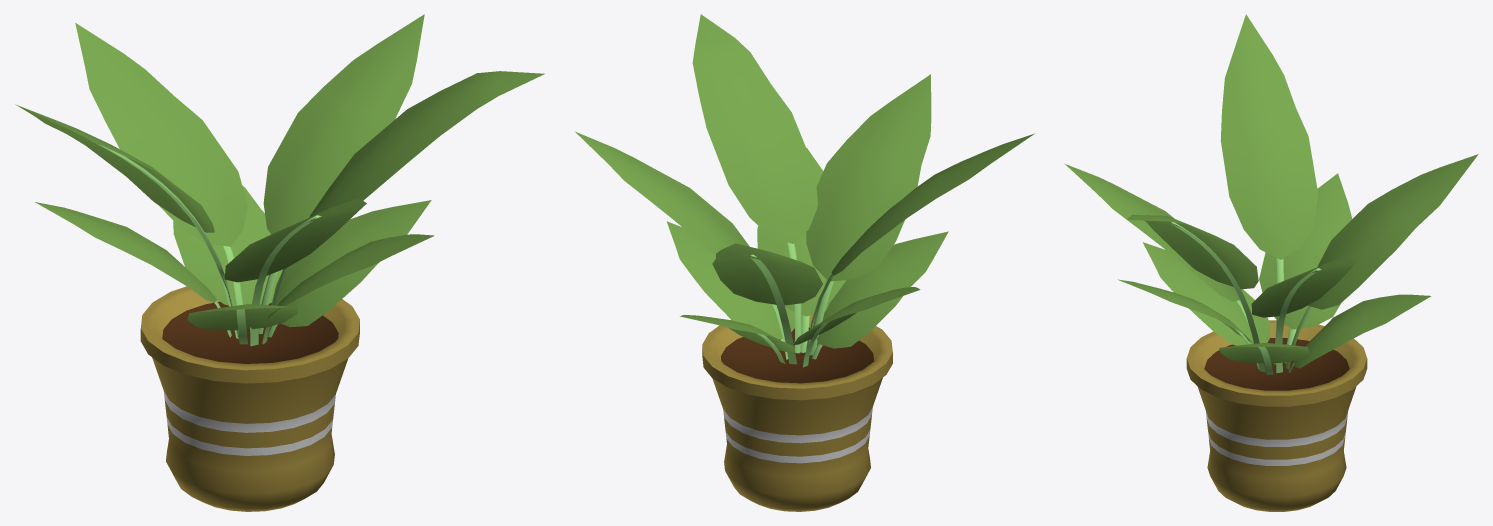
Rendered from Plant.fbx.
3 renders of one model, left to right at view 1: azimuth 30°, elevation 25°; view 2: azimuth 150°, elevation 25°; view 3: azimuth 270°, elevation 25°, orthographic. The views are drawn at different scales.
Parts seen in each view (by area): view 1: Cylinder.038, Cube.092, Cube.093, Cube.091, Cube.098, Cube.090, Cube.089, Cube.097, Cube.094, Cube.096, Cube.095; view 2: Cylinder.038, Cube.091, Cube.090, Cube.095, Cube.093, Cube.092, Cube.089, Cube.098, Cube.096, Cube.094, Cube.097; view 3: Cylinder.038, Cube.089, Cube.092, Cube.091, Cube.094, Cube.095, Cube.097, Cube.093, Cube.090, Cube.098, Cube.096.
Boxes of the visible parts, x1,y1,x2,y2 form: Cylinder.038: [140, 286, 359, 511]; Cube.092: [75, 23, 247, 305]; Cube.093: [258, 14, 424, 333]; Cube.091: [266, 71, 544, 342]; Cube.098: [268, 200, 431, 337]; Cube.090: [224, 198, 366, 346]; Cube.089: [15, 104, 238, 338]; Cube.097: [173, 185, 282, 305]; Cube.094: [35, 202, 231, 337]; Cube.096: [262, 234, 434, 344]; Cube.095: [187, 304, 298, 344]; Cylinder.038: [702, 314, 892, 511]; Cube.091: [692, 14, 817, 353]; Cube.090: [806, 74, 931, 355]; Cube.095: [812, 231, 948, 359]; Cube.093: [575, 131, 788, 359]; Cube.092: [712, 243, 822, 364]; Cube.089: [805, 133, 1034, 352]; Cube.098: [666, 221, 794, 352]; Cube.096: [757, 147, 846, 352]; Cube.094: [793, 287, 920, 367]; Cube.097: [680, 315, 794, 363]; Cylinder.038: [1186, 320, 1367, 511]; Cube.089: [1220, 14, 1317, 364]; Cube.092: [1285, 154, 1478, 369]; Cube.091: [1127, 214, 1265, 372]; Cube.094: [1259, 173, 1352, 363]; Cube.095: [1142, 242, 1270, 345]; Cube.097: [1288, 294, 1431, 372]; Cube.093: [1251, 258, 1355, 373]; Cube.090: [1064, 163, 1248, 322]; Cube.098: [1219, 343, 1309, 374]; Cube.096: [1118, 279, 1259, 369].
Size of the model in its own units: 147 by 137 by 137.
